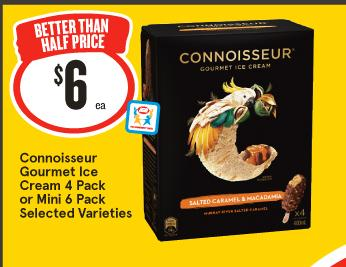description_block: (16, 146, 136, 229)
price_main: (43, 55, 116, 122)
product_image_block: (138, 19, 318, 240)
promo_text_block: (28, 18, 115, 50)
